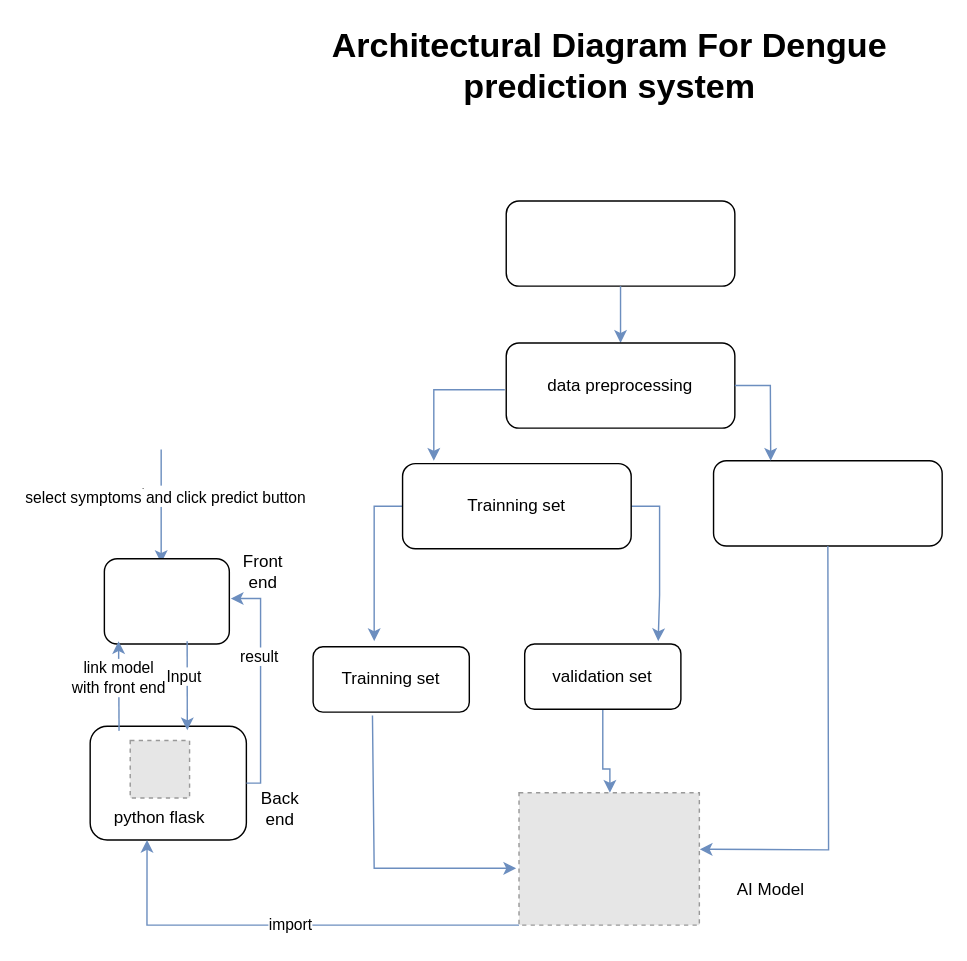
Image size: 967x961. Some labels were removed from this diagram. Grey dashed boxes stand in for pictures. The shapes that lost their labels are listed below. From the top down, each one's box as (x1, y1, x2, y2) in pixels, then its label:
(505, 200, 735, 286): data set
(712, 459, 942, 546): Testing set
(103, 557, 229, 644): HTML/CSS
